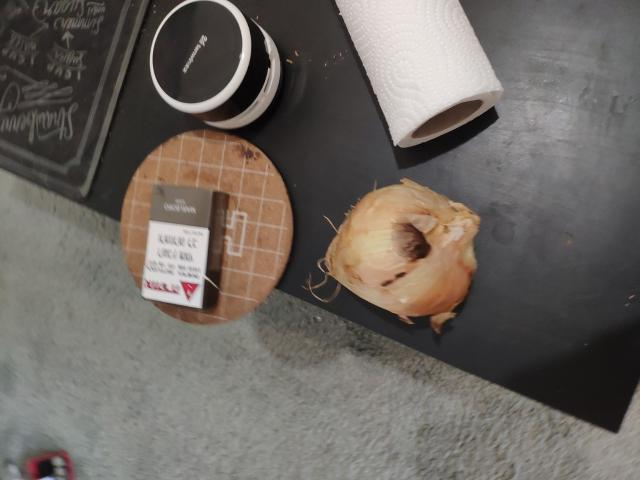onion: (317, 176, 485, 331)
